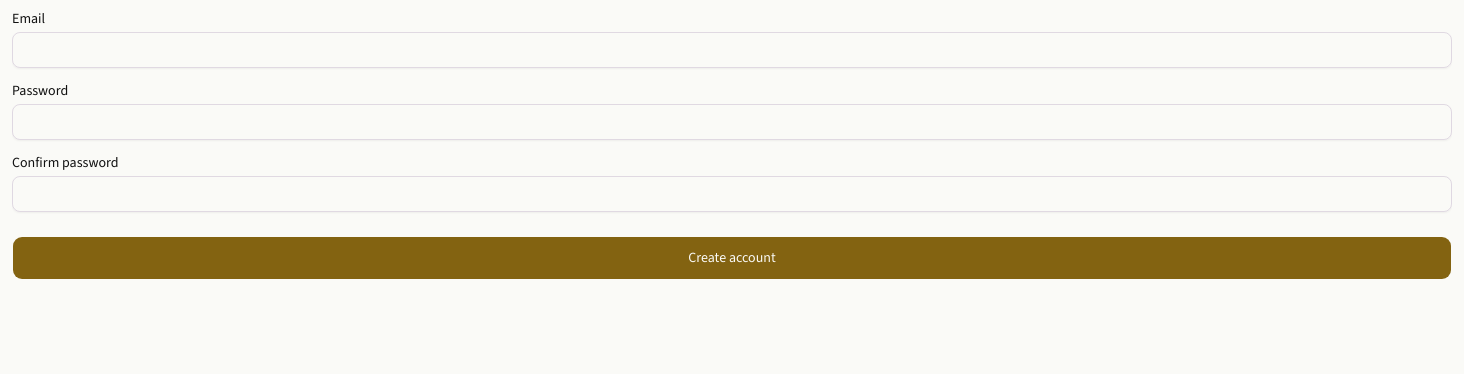
Test: SignUpForm › asks for every field when submitted empty
What coordinates should you click on to do the following:
click the button "Create account"
I would click on:
 (732, 258)
Its box is [12, 236, 1452, 280].
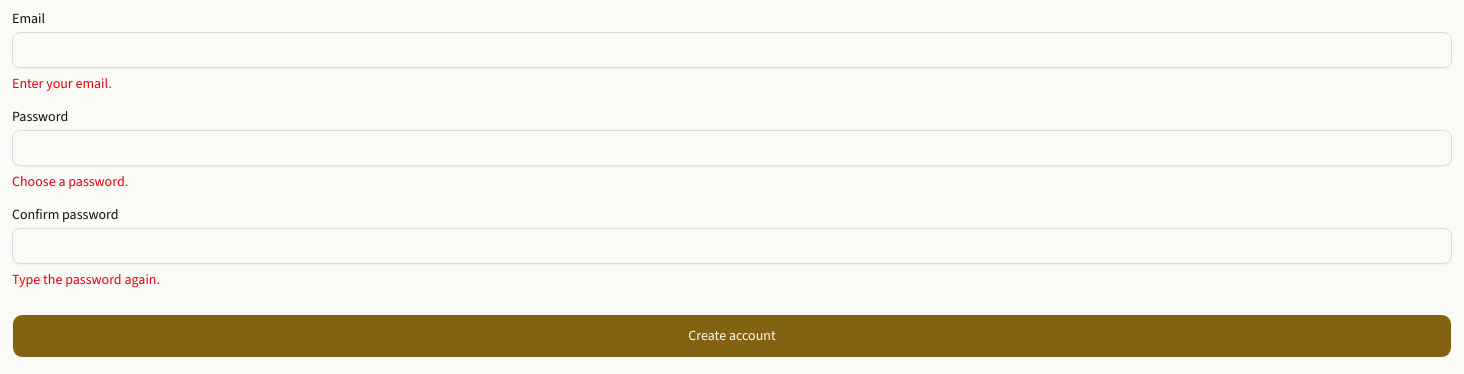
Now the text "Enter your email." is shown, box [12, 74, 112, 93]
Now the text "Choose a password." is shown, box [12, 172, 128, 191]
Now the text "Type the password again." is shown, box [12, 270, 160, 289]
